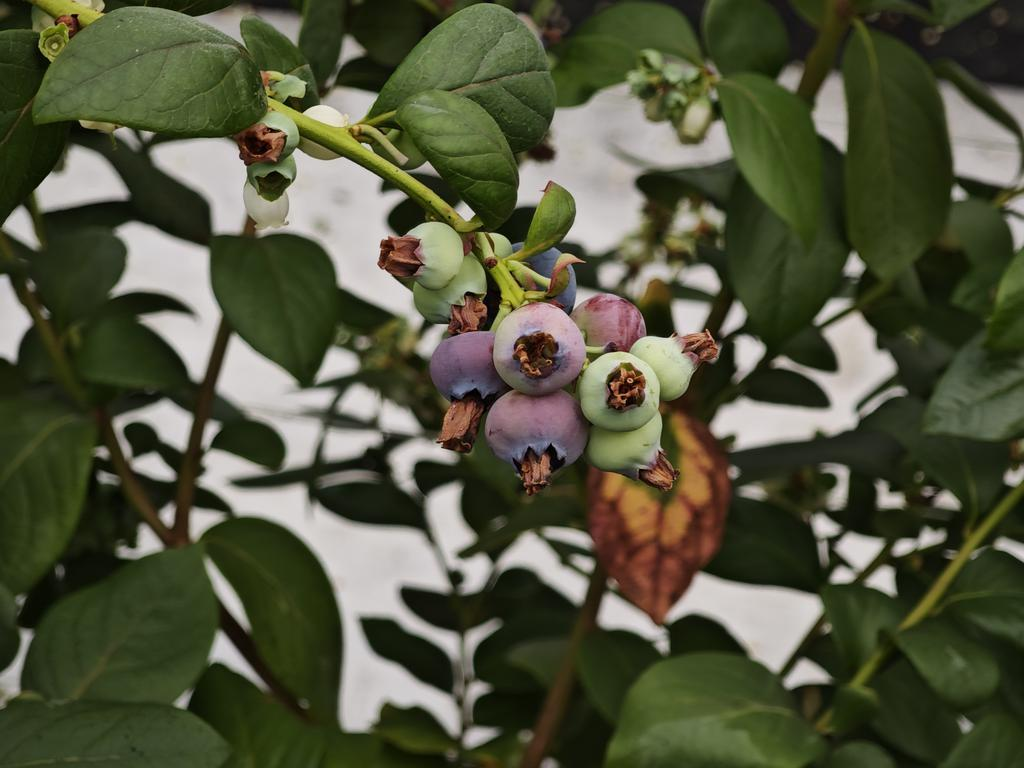Semi-RipeBlueBerry: (486, 388, 590, 475), (494, 302, 586, 395), (428, 332, 501, 404), (575, 295, 647, 352)
UnripeBlueBerry: (581, 351, 661, 430), (375, 223, 463, 291), (412, 261, 488, 326), (589, 416, 664, 480), (635, 334, 699, 401)
